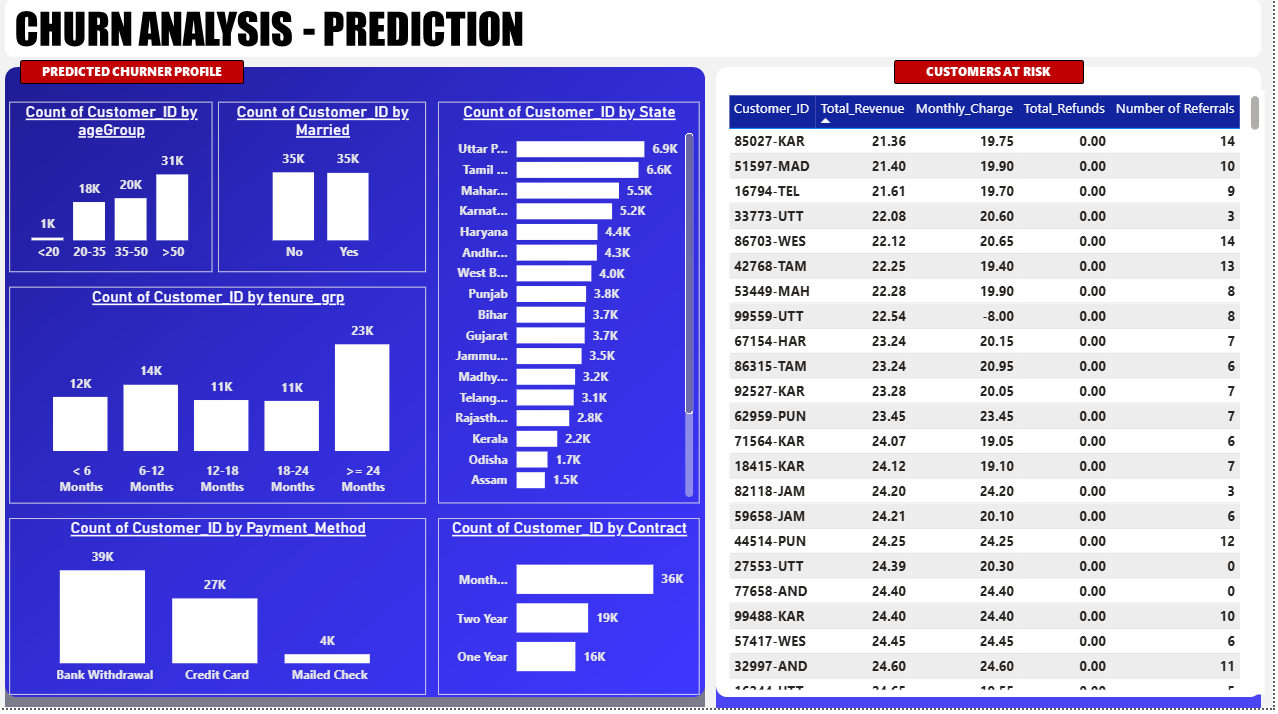

What the dashboard file says about the page in this screenshot:
{"tool":"powerbi","page":{"name":"churn prediction","canvas":[1280,720],"ordinal":2},"visuals":[{"type":"image","box":[0,0,1280,720],"z":0},{"type":"clusteredColumnChart","fields":{"Category":["mapping_agegrp.ageGroup"],"Y":["CountNonNull(prod_services.Customer_ID)"]},"box":[16.7,113.3,203.3,170],"z":1000},{"type":"columnChart","fields":{"Category":["prod_services.Married"],"Y":["CountNonNull(prod_services.Customer_ID)"]},"box":[225,113.3,208.3,170],"z":2000},{"type":"clusteredBarChart","fields":{"Category":["prod_services.State"],"Y":["CountNonNull(prod_services.Customer_ID)"]},"box":[445,113.3,261.7,401.7],"z":3000},{"type":"columnChart","fields":{"Y":["CountNonNull(prod_services.Customer_ID)"],"Category":["tenure_grouping.tenure_grp"]},"box":[16.7,298.3,416.7,216.7],"z":4000},{"type":"clusteredColumnChart","fields":{"Category":["prod_services.Payment_Method"],"Y":["CountNonNull(prod_services.Customer_ID)"]},"box":[16.7,530,416.7,176.7],"z":5000},{"type":"clusteredBarChart","fields":{"Category":["prod_services.Contract"],"Y":["CountNonNull(prod_services.Customer_ID)"]},"box":[445,530,261.7,176.7],"z":6000},{"type":"tableEx","fields":{"Values":["prod_Churn (2).Customer_ID","prod_Churn (2).Total_Revenue","prod_Churn (2).Monthly_Charge","prod_Churn (2).Total_Refunds","Sum(prod_Churn (2).Number_of_Referrals)"]},"box":[730,102.9,541.4,604.3],"z":7000}]}

Visuals, with their boxes in screenshot pixels (x1, y1, x2, y2), scaled from the page's 1280x720 canvas onto the 1278x714 screenshot:
image: x1=0, y1=0, x2=1277, y2=713
clusteredColumnChart - mapping_agegrp.ageGroup x CountNonNull(prod_services.Customer_ID): x1=17, y1=112, x2=220, y2=281
columnChart - prod_services.Married x CountNonNull(prod_services.Customer_ID): x1=225, y1=112, x2=433, y2=281
clusteredBarChart - prod_services.State x CountNonNull(prod_services.Customer_ID): x1=444, y1=112, x2=706, y2=511
columnChart - CountNonNull(prod_services.Customer_ID) x tenure_grouping.tenure_grp: x1=17, y1=296, x2=433, y2=511
clusteredColumnChart - prod_services.Payment_Method x CountNonNull(prod_services.Customer_ID): x1=17, y1=526, x2=433, y2=701
clusteredBarChart - prod_services.Contract x CountNonNull(prod_services.Customer_ID): x1=444, y1=526, x2=706, y2=701
tableEx - prod_Churn (2).Customer_ID x prod_Churn (2).Total_Revenue: x1=729, y1=102, x2=1269, y2=701
